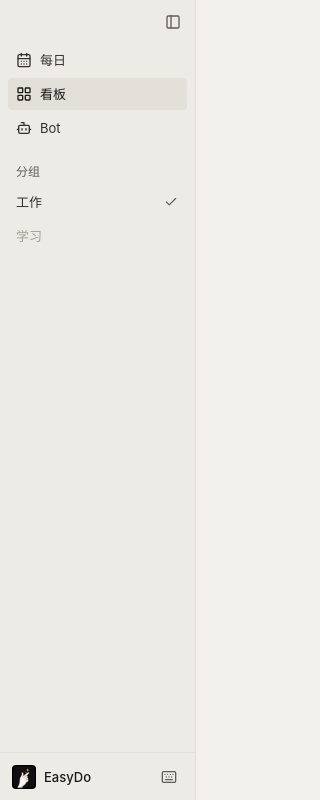
Test: AppSidebar board groups › names destinations in Chinese and keeps shortcut keycaps behind the keyboard button
Expected: the text "分组" is shown, [16,164,40,179]
Expected: the text "EasyDo" is shown, [44,768,91,784]
Click the button titled "快捷键": {"x": 169, "y": 776} [155,762,183,790]
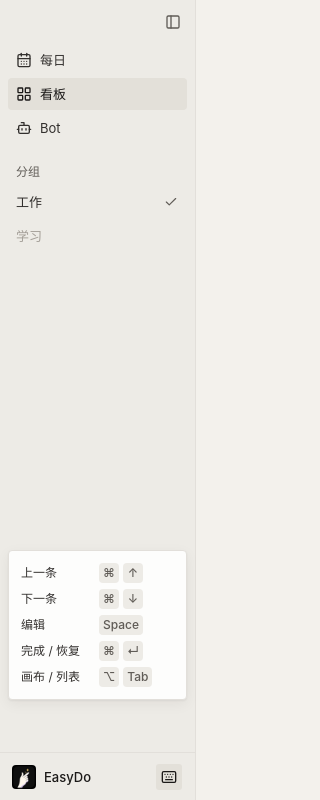
Now the text "上一条" is shown, box [21,565,57,580]
Now the text "完成 / 恢复" is shown, box [21,643,80,658]
Now the text "画布 / 列表" is shown, box [21,669,80,684]
